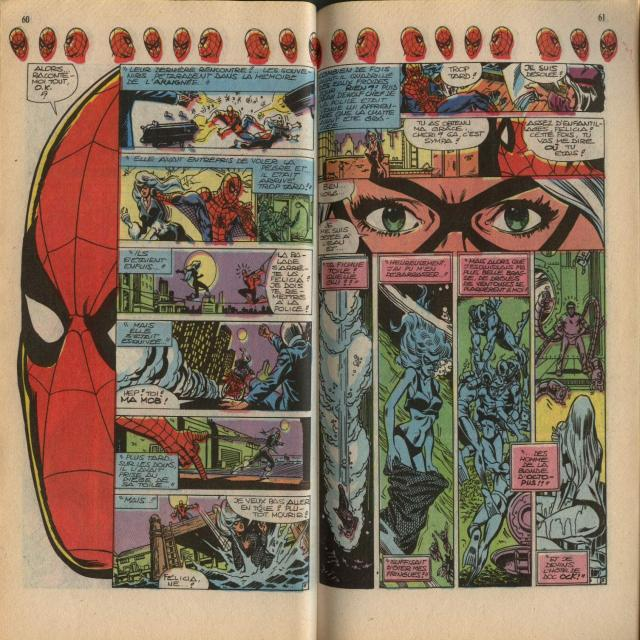comic_panel: (17, 59, 116, 589), (377, 251, 456, 591), (456, 248, 534, 588), (532, 248, 610, 587), (316, 175, 607, 254), (316, 253, 376, 592), (111, 494, 311, 592), (315, 116, 606, 182), (114, 319, 313, 412), (116, 152, 314, 242), (117, 62, 316, 150), (112, 414, 313, 493), (115, 247, 314, 314), (398, 62, 607, 115)
